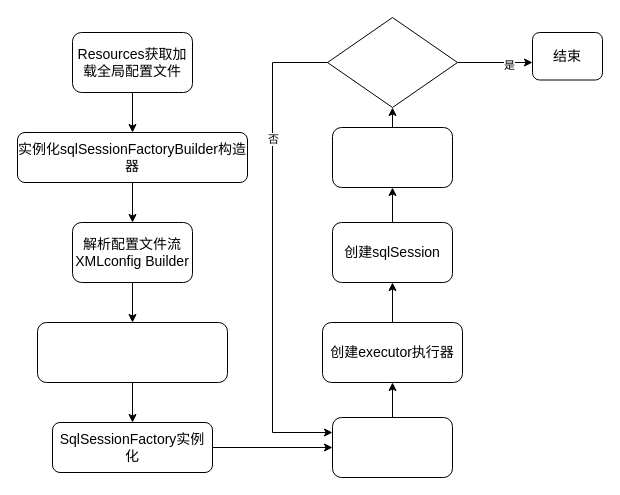
Some shapes in this 620 by 495 pixel diagram are drawn without their labels. The centre of each missing label's shape, as x and y in pixels:
configuration所有的配置信息: (132,352)
Transactional事务管理: (392,447)
实现CRUD: (392,157)
查看是否执行成功: (392,62)
